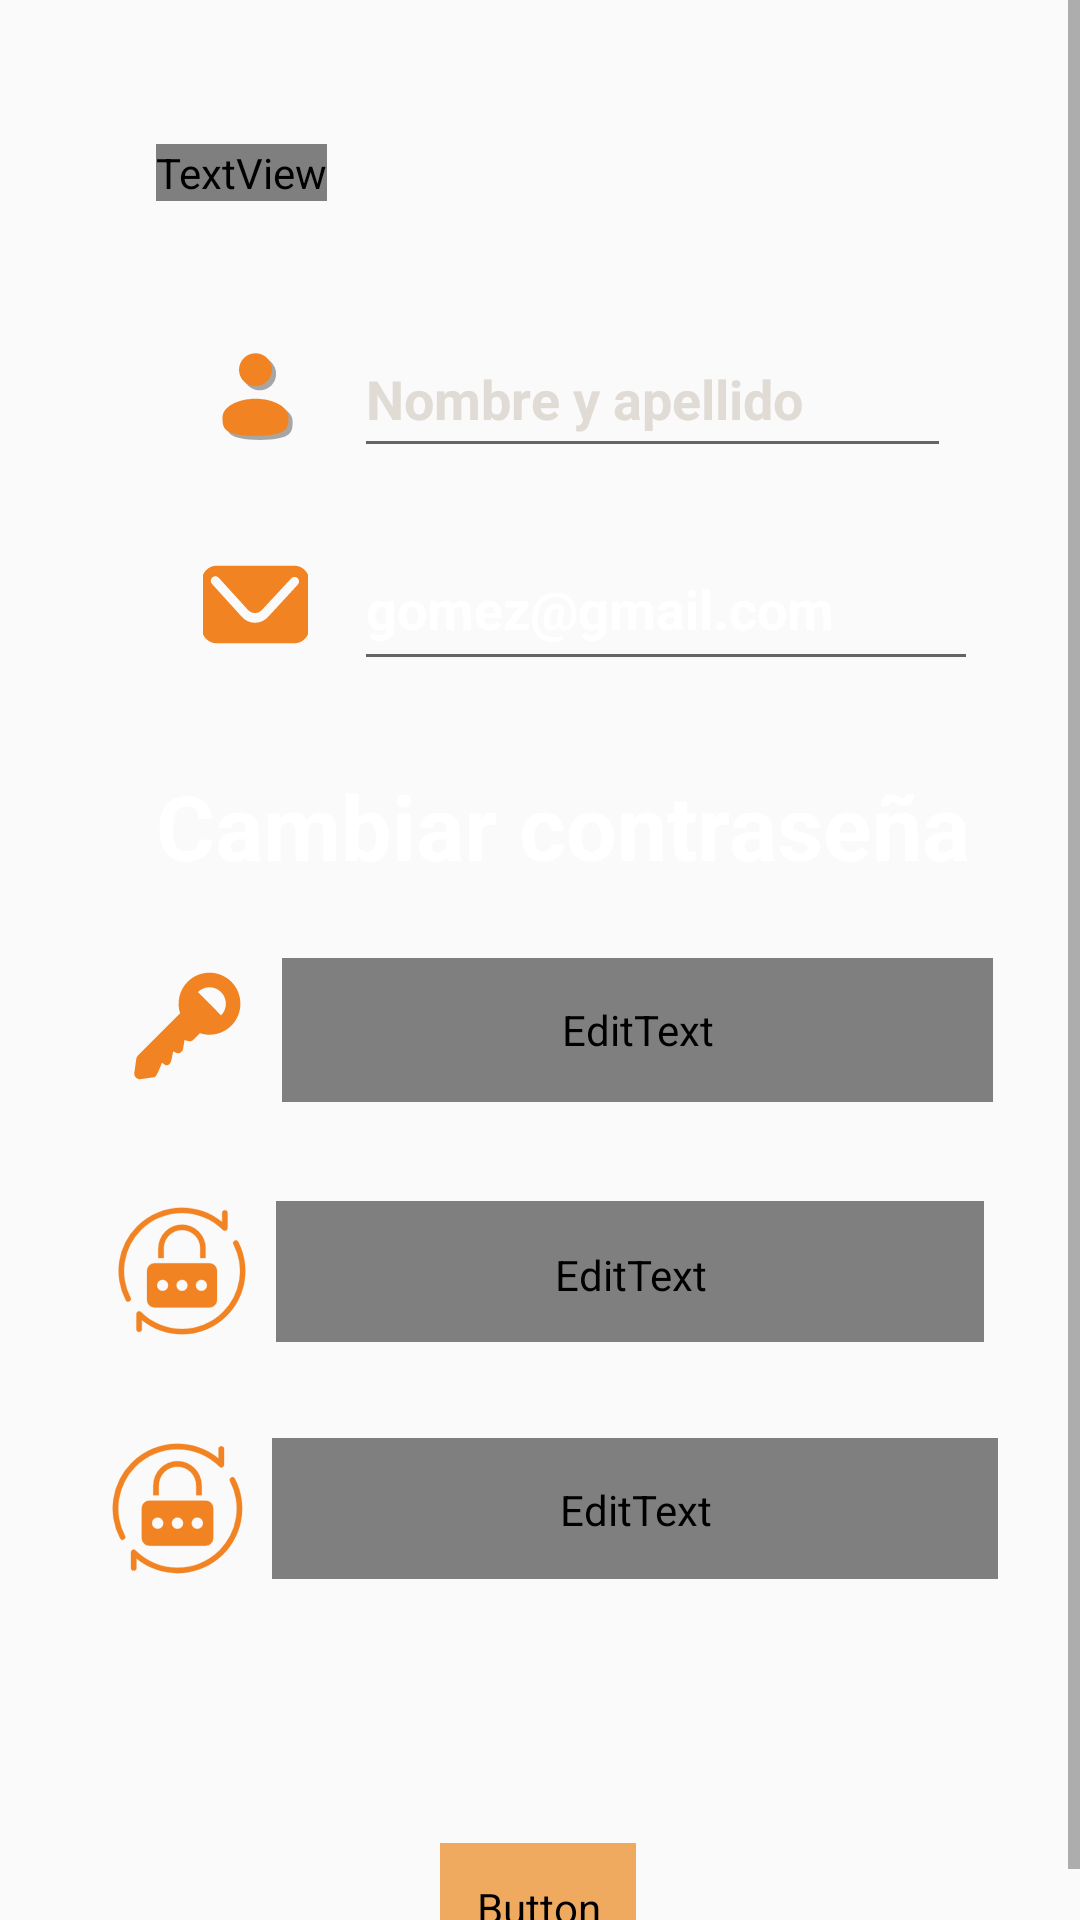

Icons on this 1080 × 1920 Android screen, each with its box as (x1, y1, x2, y2):
key: (134, 972, 241, 1080)
newpass: (118, 1207, 246, 1335), (112, 1443, 243, 1574)
Ícono usuario: (222, 353, 293, 440)
